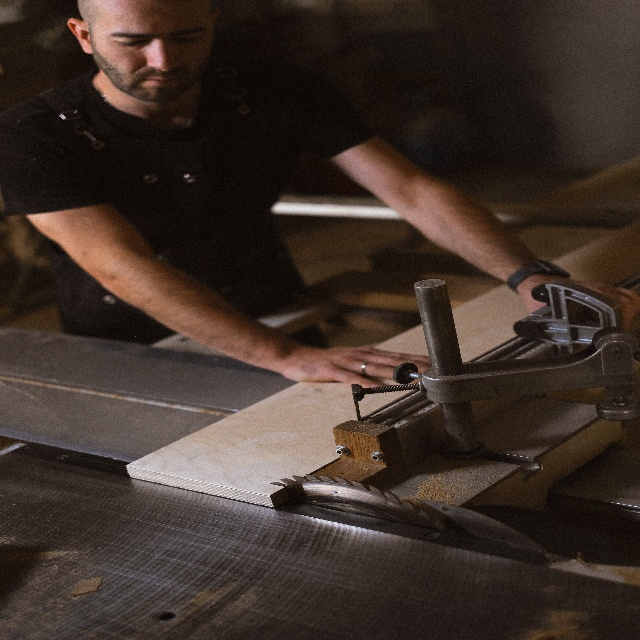Sin_guantes: (292, 343, 433, 388), (523, 278, 640, 331)
